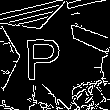P_N: (30, 30, 70, 82)
